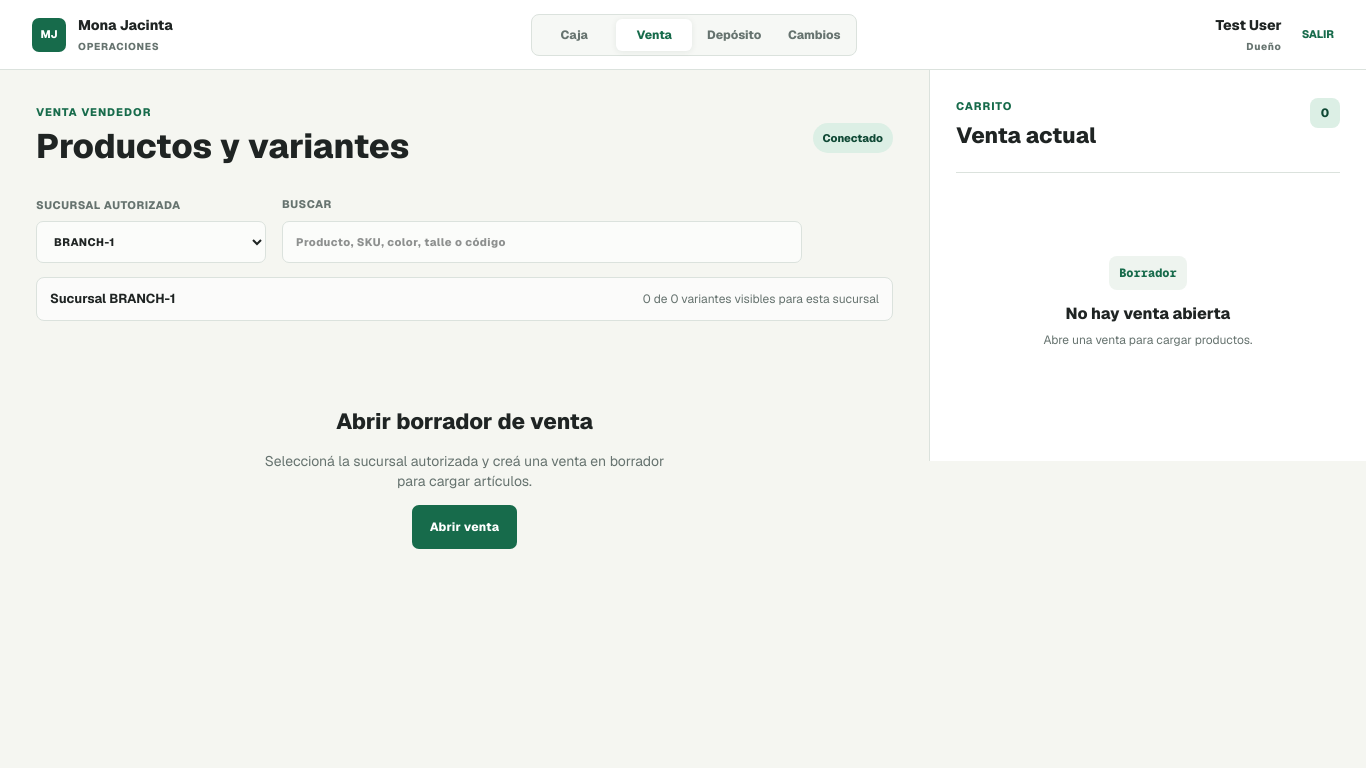
Scenario: ExchangeWorkspace UI-1 — tab, branch authority and Web Locks guard › EW05 without Web Locks the workspace says why and offers no way to start
Expected: the button "Venta" is shown, [616,18,692,50]
Click the button "Cambios" at {"x": 814, "y": 34}, box [776,18,852,50]
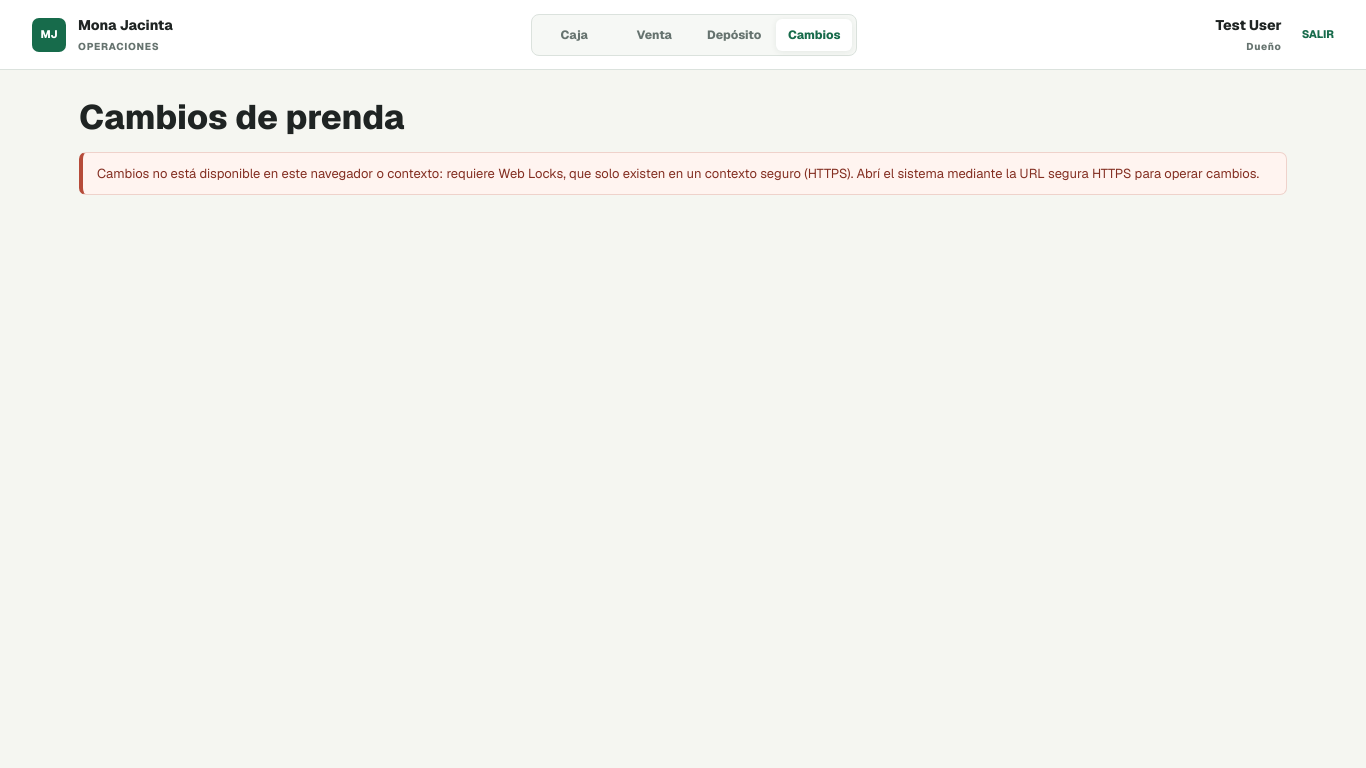
Result: the message shows "Web Locks" at [97,165,1259,182]
